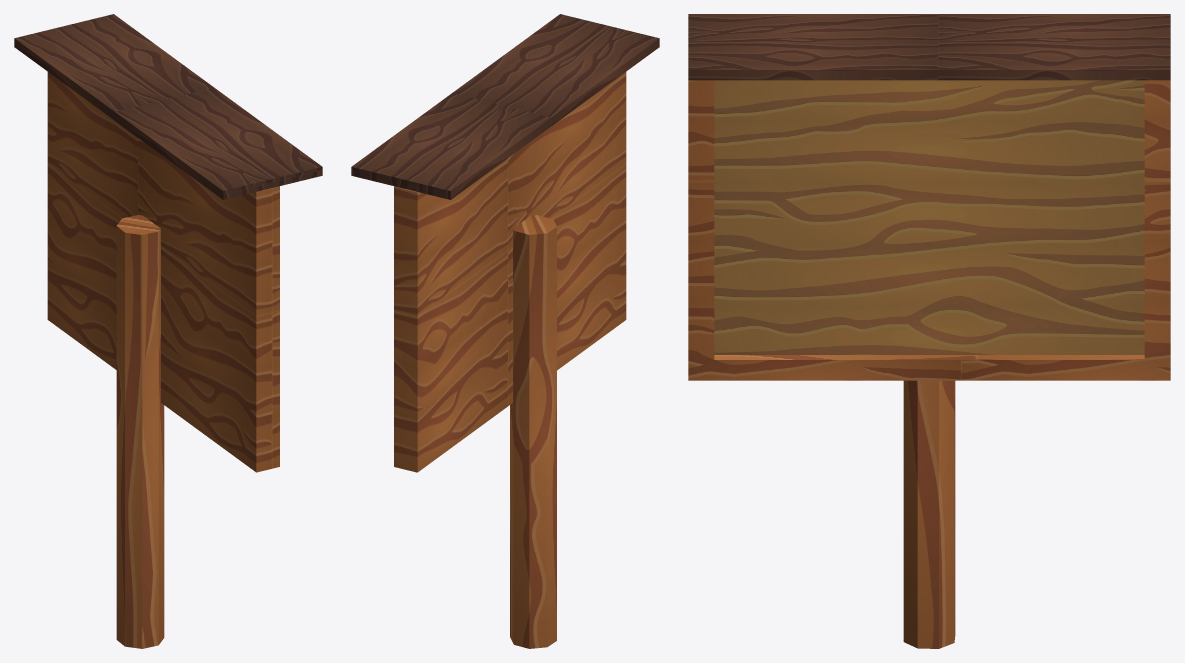
File: letreroBasico.glb
3 renders of one model, left to right at view 1: azimuth 30°, elevation 25°; view 2: azimuth 150°, elevation 25°; view 3: azimuth 270°, elevation 25°, orthographic. The views are drawn at different scales.
Parts seen in each view (by area): view 1: Cylinder, Cylinder_Mat.99_0.002; view 2: Cylinder, Cylinder_Mat.99_0.002; view 3: Cylinder_Mat.99_0.001, Cylinder, Cylinder_Mat.99_0.002.
Part boxes in pixels (x1,y1,x2,y2): Cylinder: (47,72,279,648); Cylinder_Mat.99_0.002: (14,14,322,199); Cylinder: (394,72,626,648); Cylinder_Mat.99_0.002: (351,14,659,199); Cylinder_Mat.99_0.001: (714,80,1144,354); Cylinder: (688,80,1170,648); Cylinder_Mat.99_0.002: (688,14,1170,80).
Size of the model in its own units: 0.7806 by 3.97 by 2.84.
3 materials, 3 textured.
